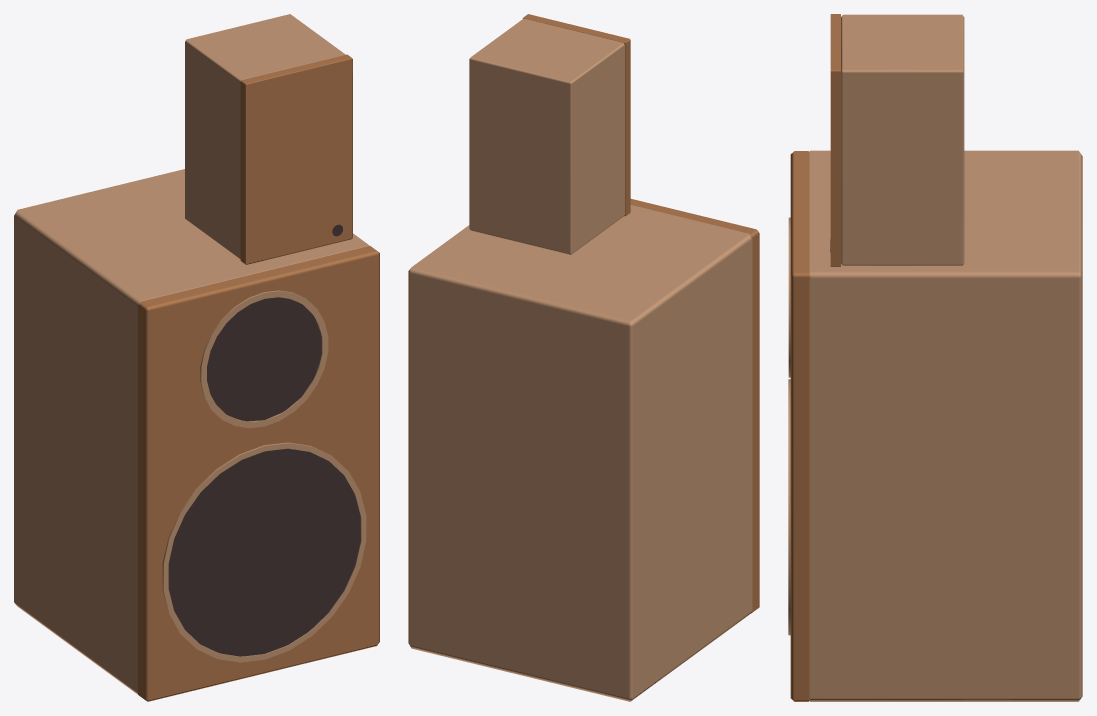
File: audio1.glb
The picture shows the model from 3 angles, left to right: view 1: azimuth 30°, elevation 25°; view 2: azimuth 150°, elevation 25°; view 3: azimuth 270°, elevation 25°; orthographic projection. The views are drawn at different scales.
Parts seen in each view (by area): view 1: Cube, Cube 2, Cube 3 (×2), Cylinder 3 (×2), Cylinder 2, Cylinder; view 2: Cube, Cube 3 (×2), Cube 2; view 3: Cube, Cube 3 (×2), Cube 2, Cylinder 3, Cylinder.
Part boxes in pixels (x1,y1,x2,y2): Cube: [14, 169, 369, 694]; Cube 2: [138, 246, 379, 701]; Cube 3 (×2): [185, 14, 352, 264]; Cylinder 3 (×2): [162, 442, 366, 662]; Cylinder 2: [207, 297, 321, 421]; Cylinder: [200, 290, 328, 428]; Cube: [408, 205, 752, 701]; Cube 3 (×2): [469, 14, 630, 255]; Cube 2: [630, 199, 759, 613]; Cube: [809, 150, 1082, 701]; Cube 3 (×2): [830, 14, 964, 266]; Cube 2: [790, 151, 810, 701]; Cylinder 3: [788, 379, 790, 635]; Cylinder: [788, 217, 790, 377].
Size of the model in its own units: 0.9323 by 2.19 by 0.9287.
